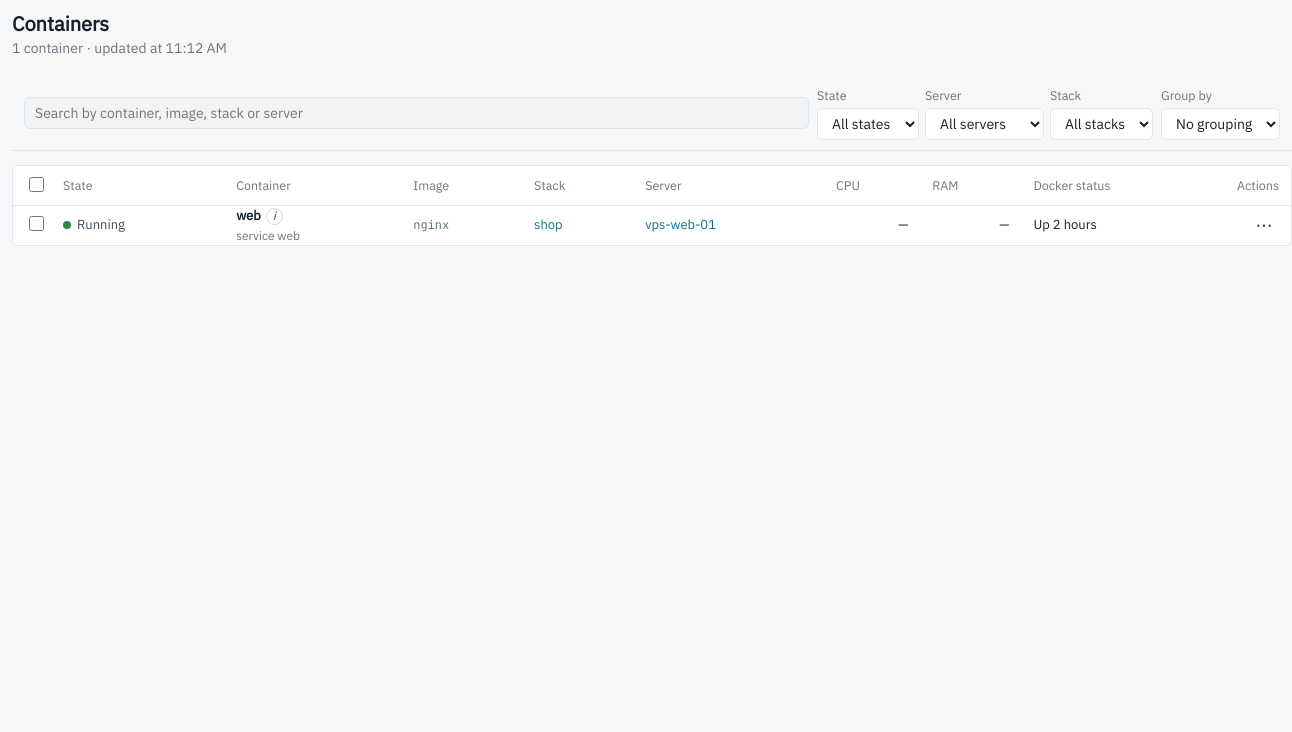
Containers › runs a row action and reports the job result
The image size is (1292, 732).
Check: the text "web" is shown, box x1=236 y1=207 x2=261 y2=226
Click the button named "Actions for web": {"x": 1264, "y": 225} x1=1249 y1=209 x2=1279 y2=241
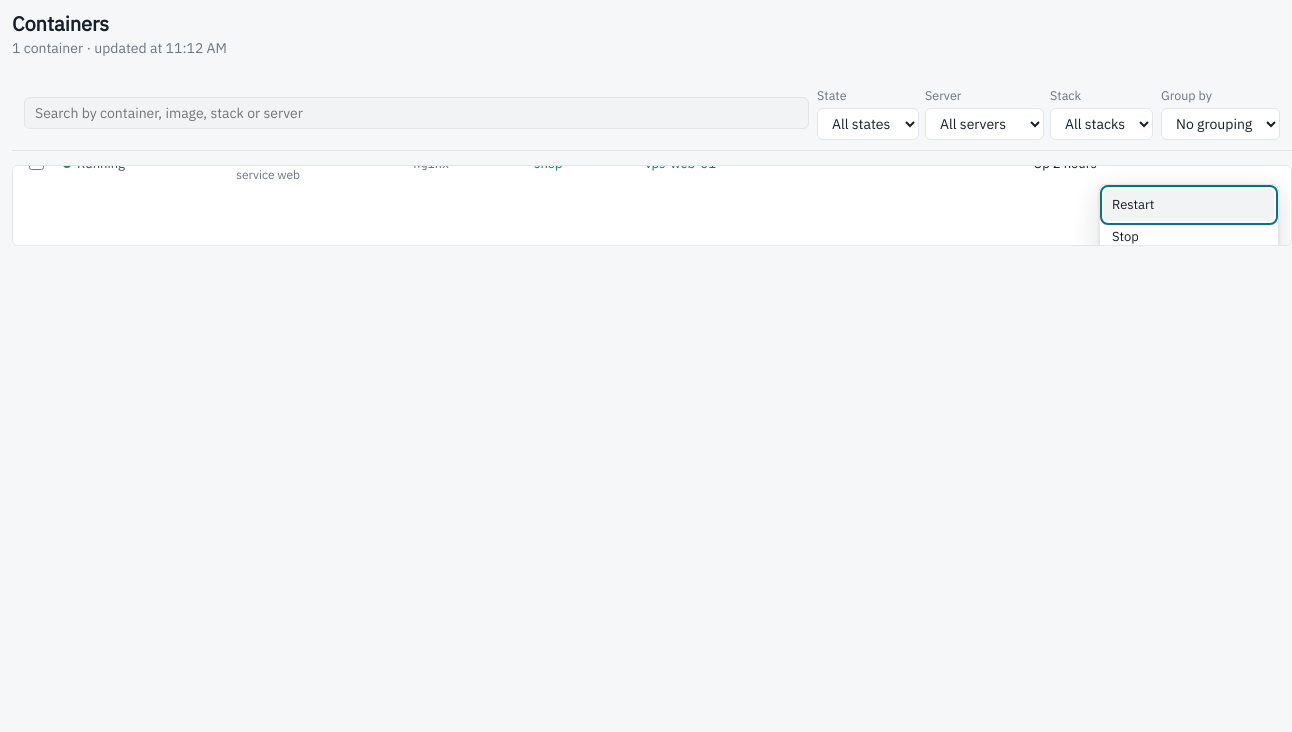
Click the menu item "Stop": {"x": 1189, "y": 237} x1=1104 y1=221 x2=1274 y2=253
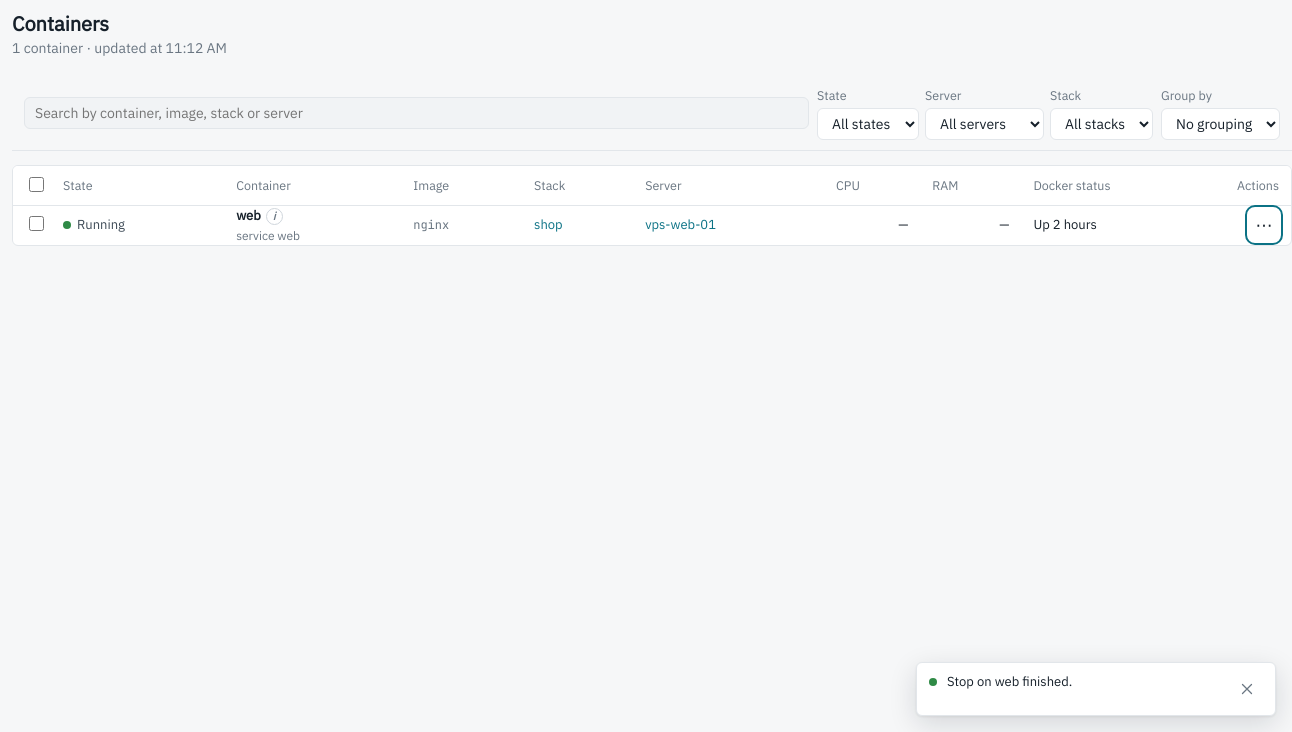
Check: the text "Stop on web finished." is shown, box x1=947 y1=673 x2=1072 y2=690
